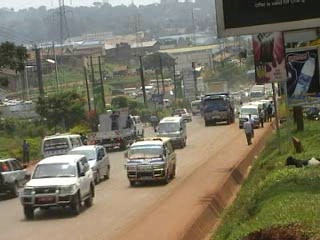Car: (20, 152, 97, 216), (66, 143, 111, 186), (0, 155, 32, 197), (170, 105, 192, 125)
Motorcycle: (149, 110, 160, 130)
